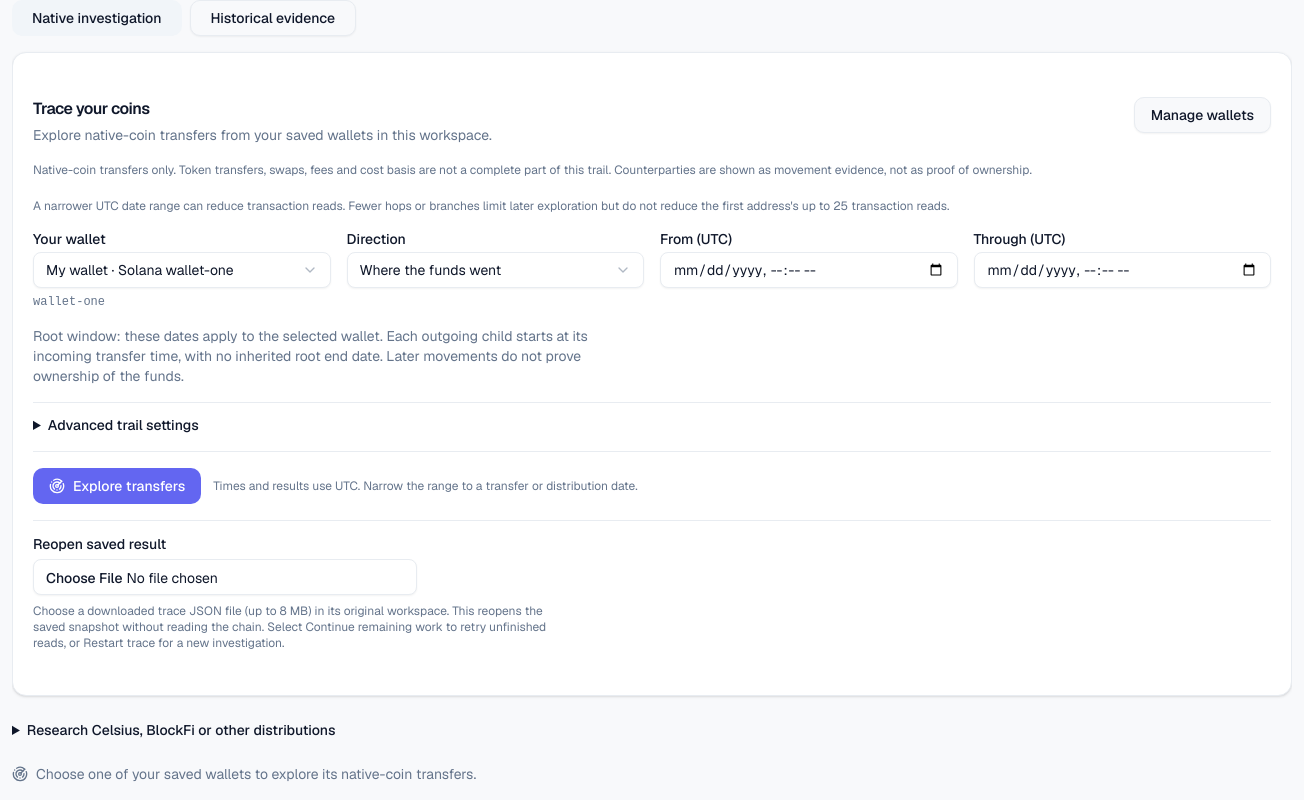
Scenario: owned wallet activity › limits complete empty history to the native window and keeps absent observed dates unknown
Click the button "Explore transfers": (117, 486) [33,468,201,504]
(page scrolled)
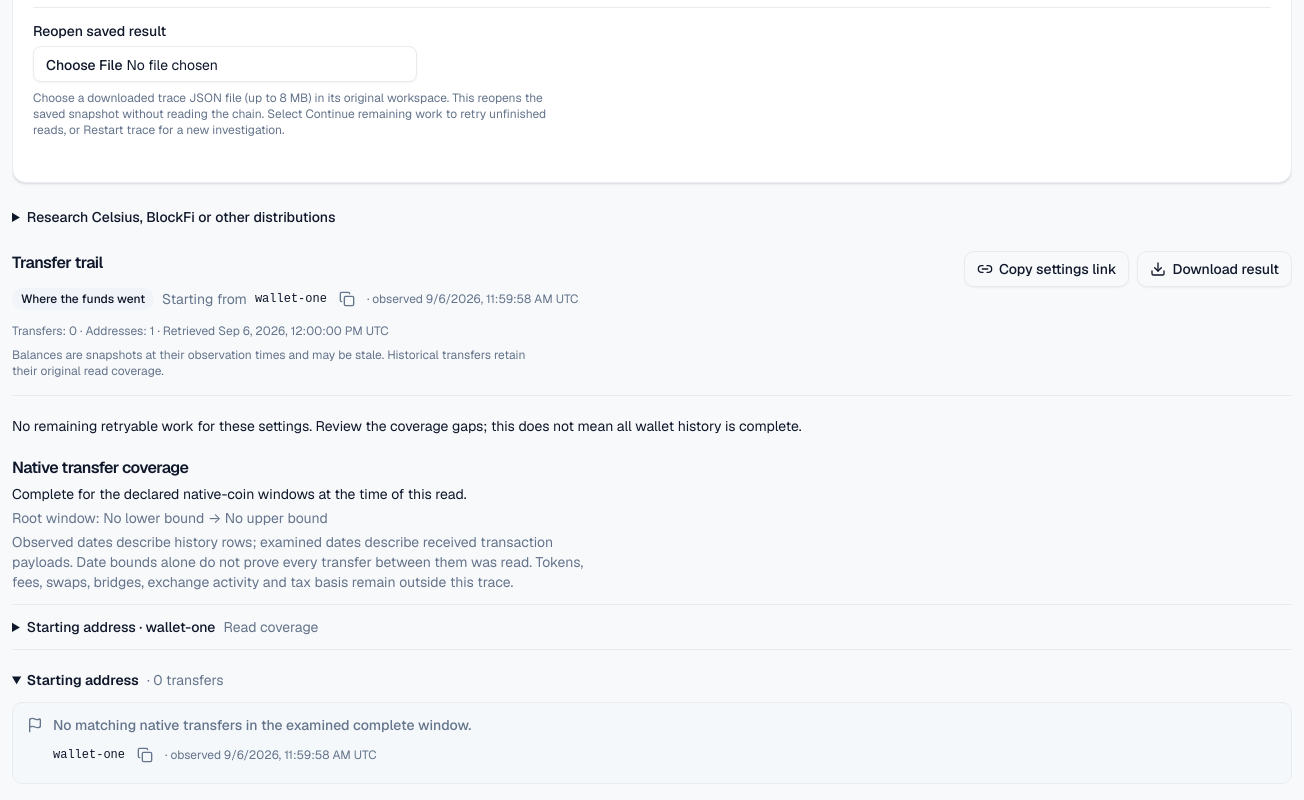
Now the text "Complete for the declared native-coin windows at the time of this read." is shown, box [12,485,467,503]
Now the text "No matching native transfers in the examined complete window." is shown, box [53,715,471,735]
Now the text "Tokens, fees, swaps, bridges, exchange activity and tax basis remain outside" is shown, box [12,533,583,591]
Click the heading "Starting address · wallet-one": (173, 627) [27,618,318,636]
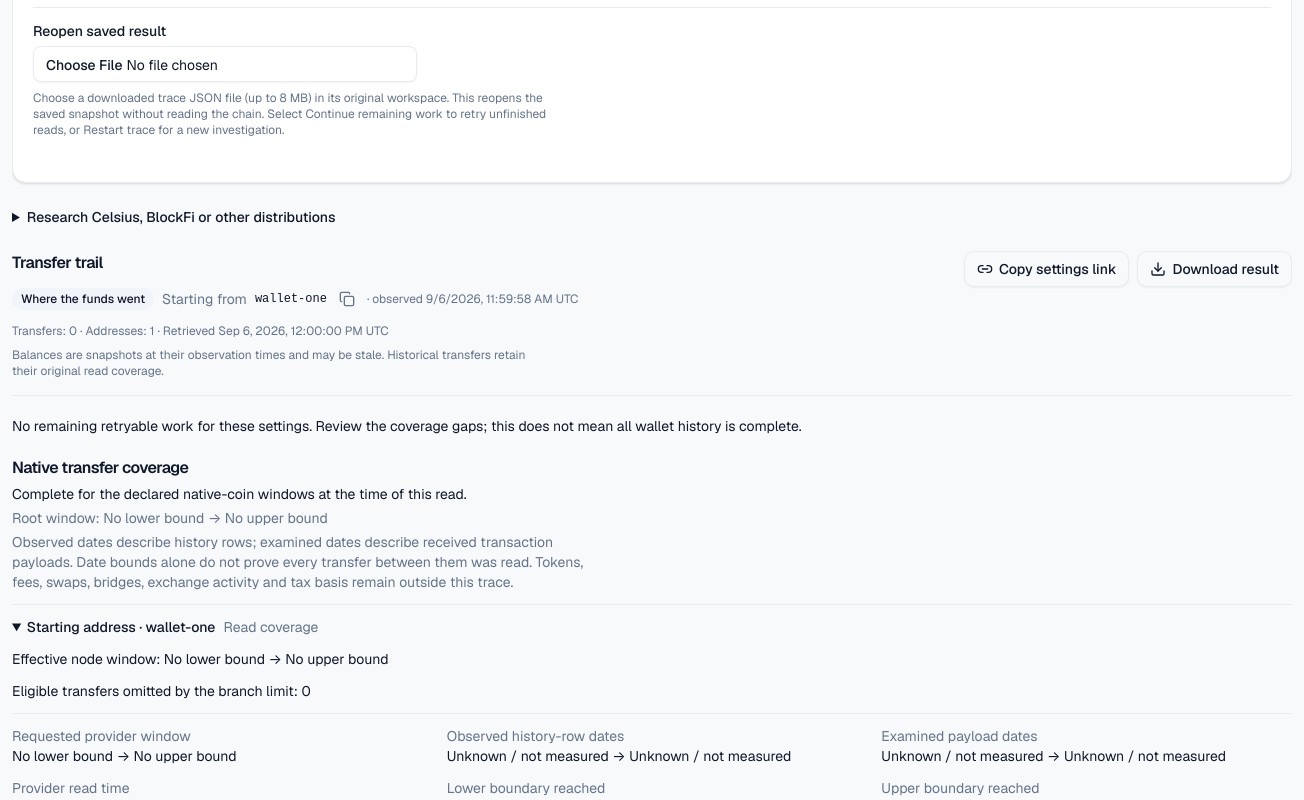
Now the text "Unknown / not measured → Unknown / not measured" below "Observed history-row dates" is shown, box [447,747,791,765]
